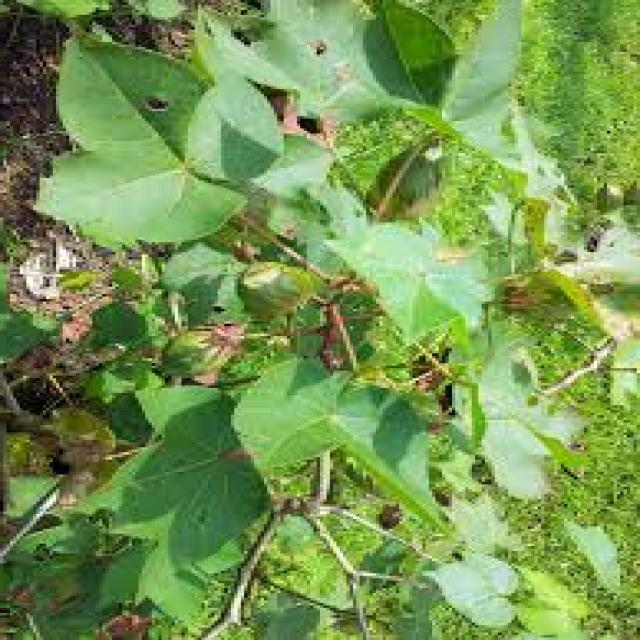Healthy Leaf: (12, 14, 640, 639)
